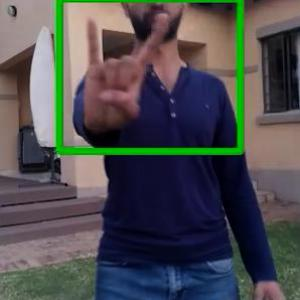takeoff-hand: (76, 10, 174, 132)
